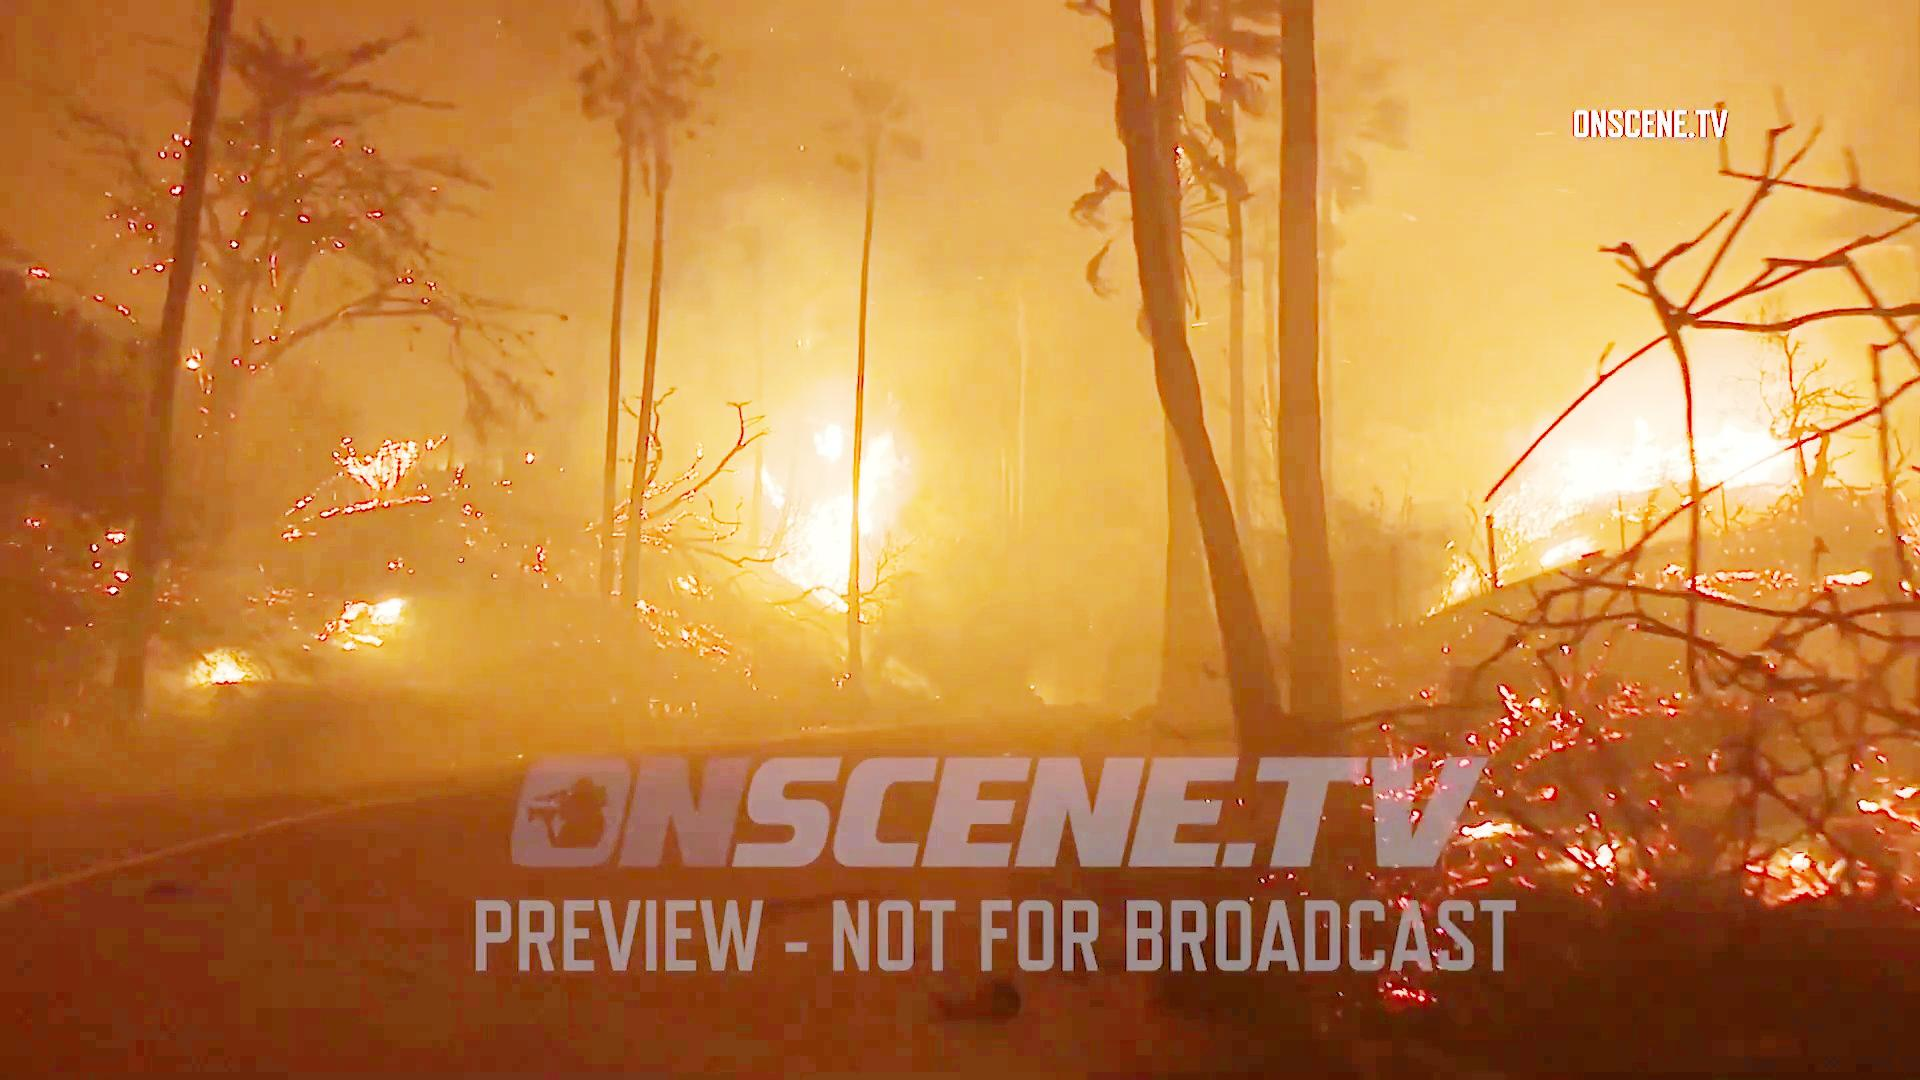fire: (1563, 382, 1784, 492), (770, 413, 887, 599)
